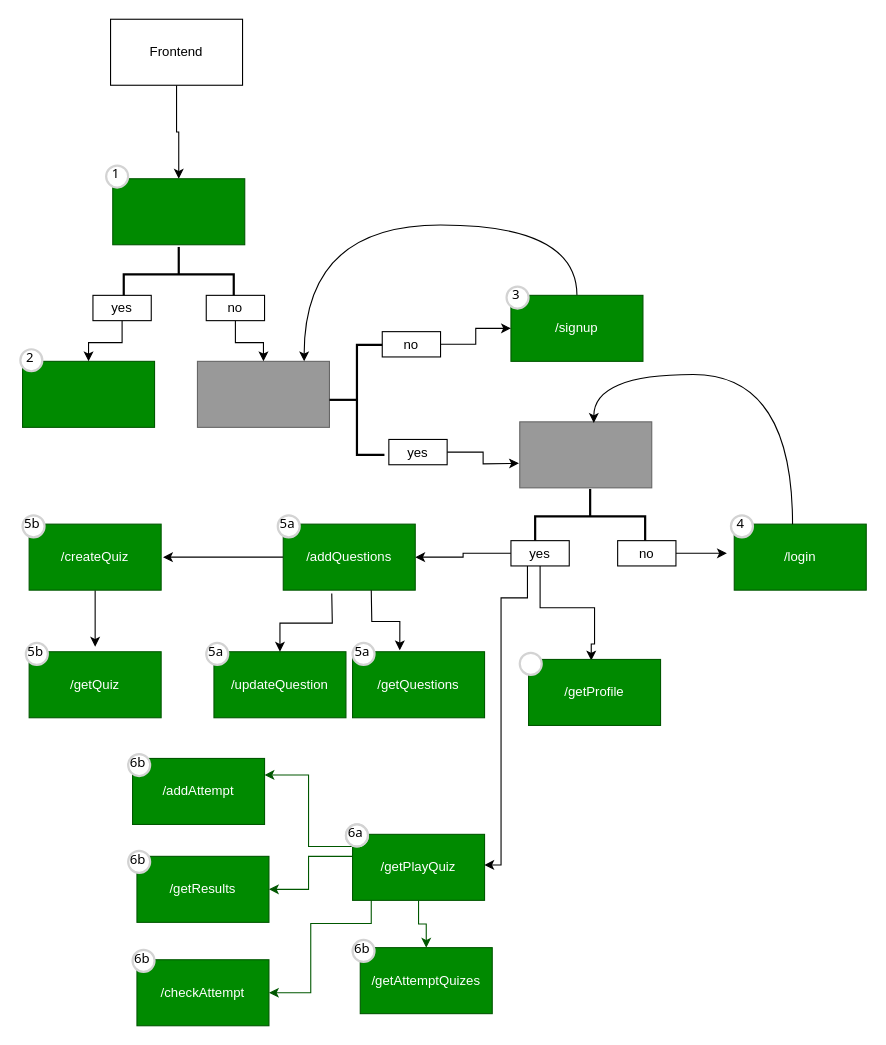
This 886x1045 diagram has some shape labels left out. Each missing label, with the centre of its shape:
"/auth" belongs at [178,211].
"/logout" belongs at [88,393].
"7a" belongs at [530,663].
"logged in?" belongs at [585,454].
"signed up?" belongs at [262,393].
